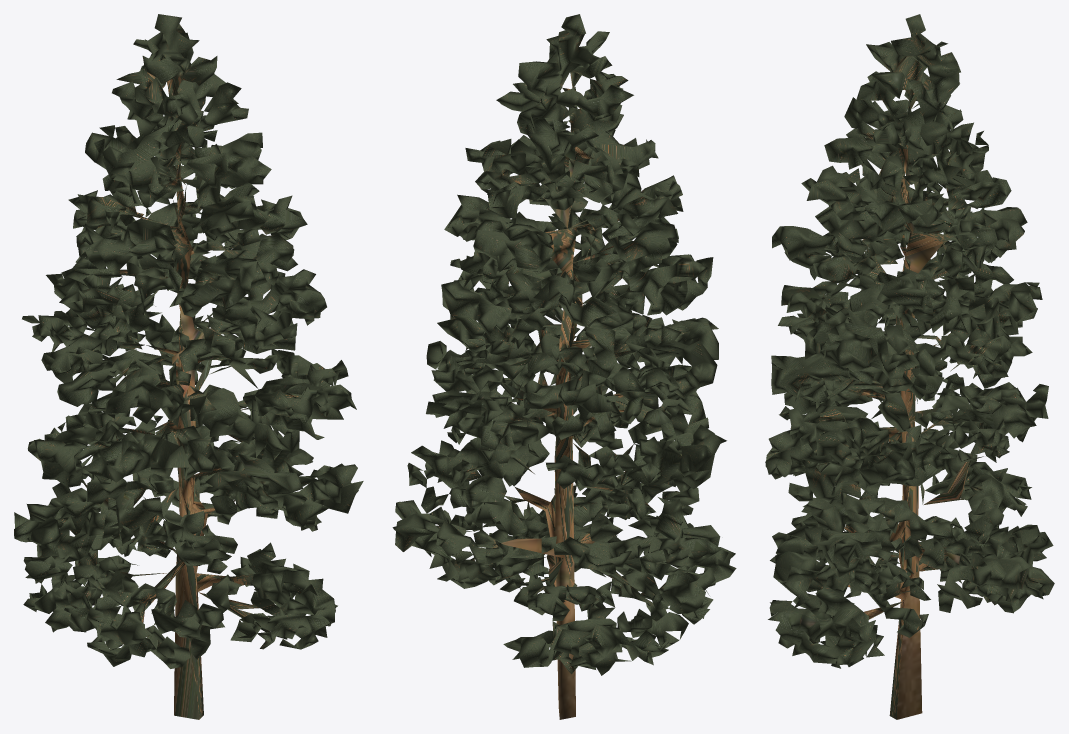
File: pino_joven_alto.glb
3 views of the same model, side by side, from view 1: azimuth 30°, elevation 25°; view 2: azimuth 150°, elevation 25°; view 3: azimuth 270°, elevation 25° (orthographic).
Visible parts, largest first — view 1: alto; view 2: alto; view 3: alto.
Boxes of the visible parts, x1,y1,x2,y2 form: alto: (14, 14, 363, 719); alto: (392, 14, 736, 719); alto: (765, 14, 1054, 719).
Bounding box in the file's own units: 1.94 × 3.99 × 1.52.
1 material, 1 textured.
